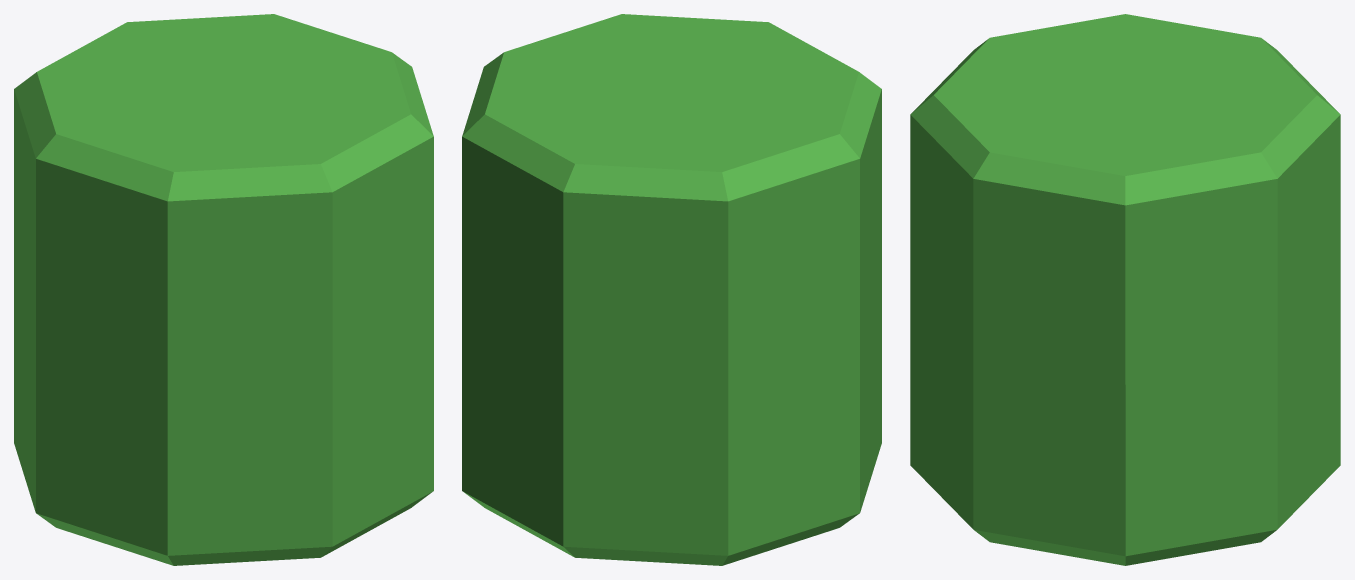
The model's file is Hedge-2x2x2-Circular.FBX.
The picture shows the model from 3 angles, left to right: view 1: azimuth 30°, elevation 25°; view 2: azimuth 150°, elevation 25°; view 3: azimuth 270°, elevation 25°; orthographic projection.
Parts seen in each view (by area): view 1: Hedge-2x2x2-Circular; view 2: Hedge-2x2x2-Circular; view 3: Hedge-2x2x2-Circular.
Boxes of the visible parts, x1,y1,x2,y2 form: Hedge-2x2x2-Circular: [14, 14, 433, 565]; Hedge-2x2x2-Circular: [462, 14, 881, 565]; Hedge-2x2x2-Circular: [910, 14, 1340, 565].
Size of the model in its own units: 20 by 20 by 20.
